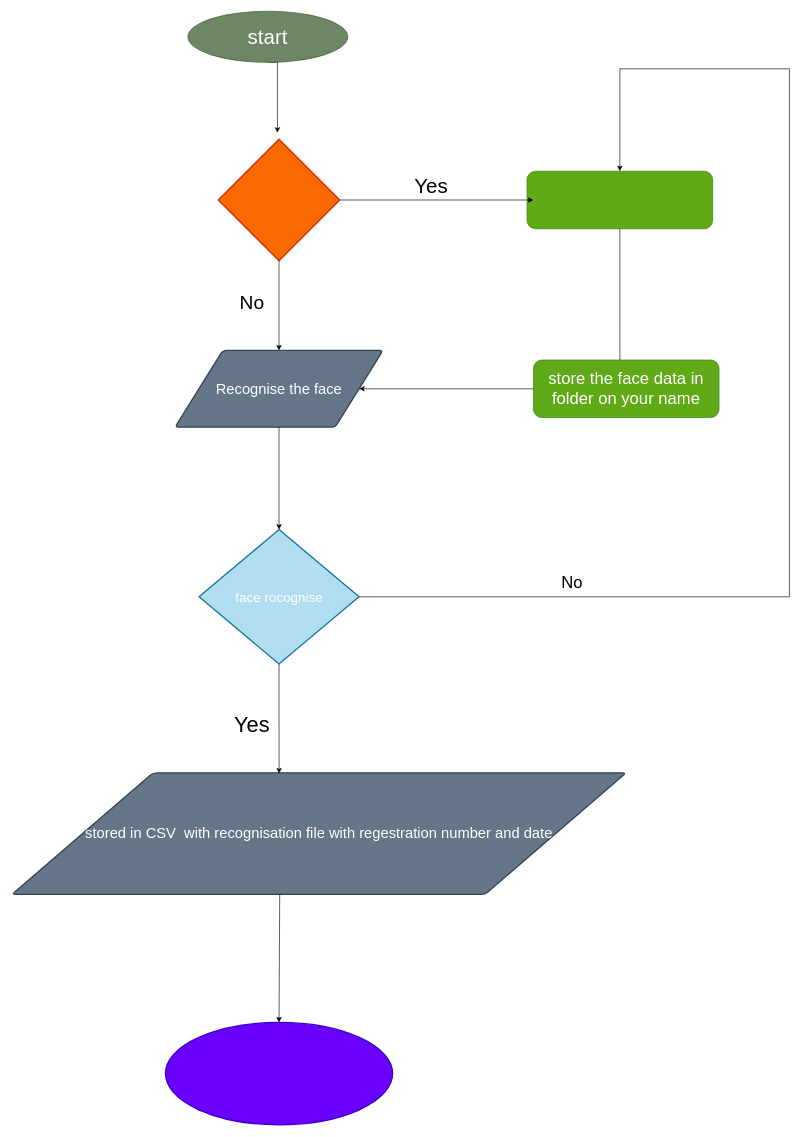
Image size: 806x1137. Some labels were removed from this diagram. The shapes that lost their labels are listed below. From the top down, each one's centre as x and y in pixels, then its label:
At [278,199]: "New user".
At [619,200]: "Give your photograph".
At [278,1073]: "End".
